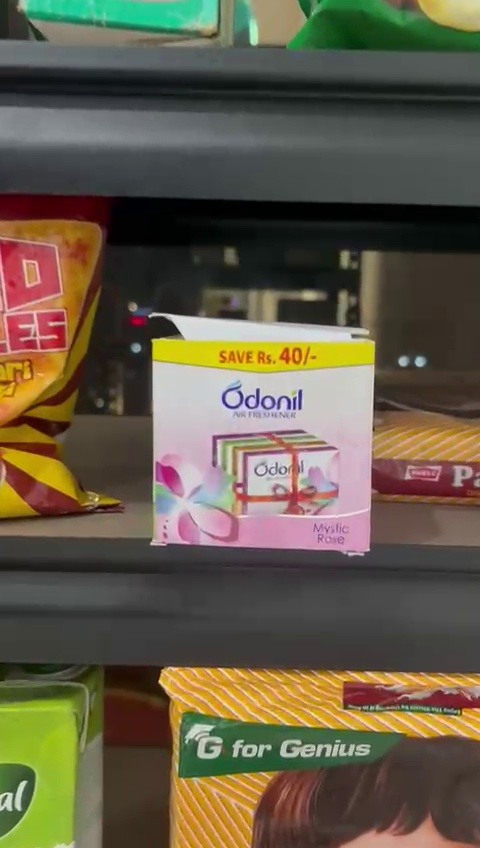Odonil: (143, 313, 374, 556)
